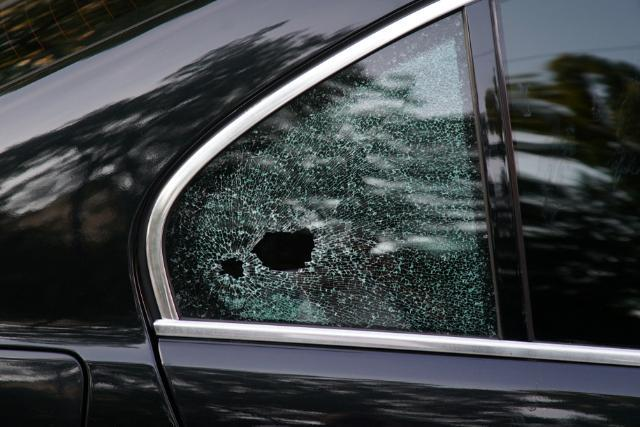Door: (180, 47, 496, 382)
